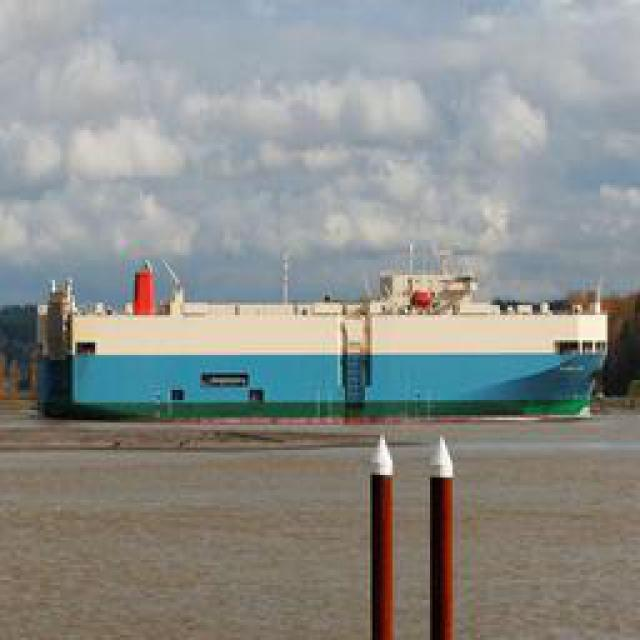Ship: (41, 289, 614, 419)
